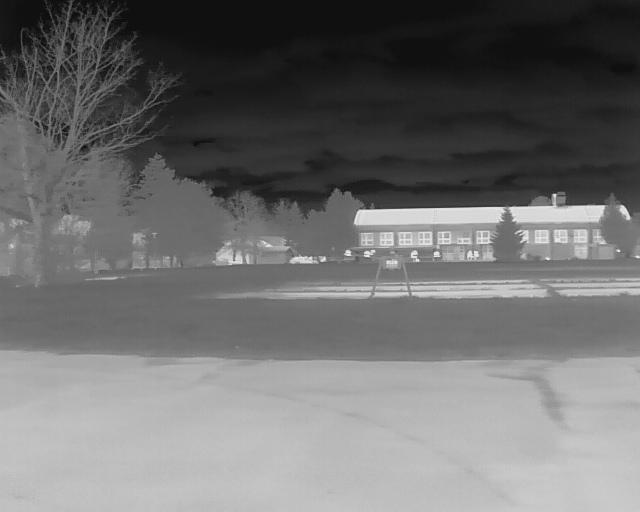drone: (336, 243, 448, 303)
